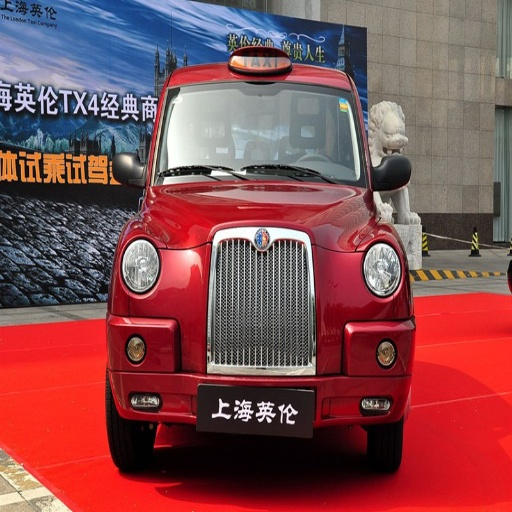front_bumper: (116, 228, 403, 434)
hood: (139, 176, 376, 250)
left_mirror: (374, 152, 412, 191)
